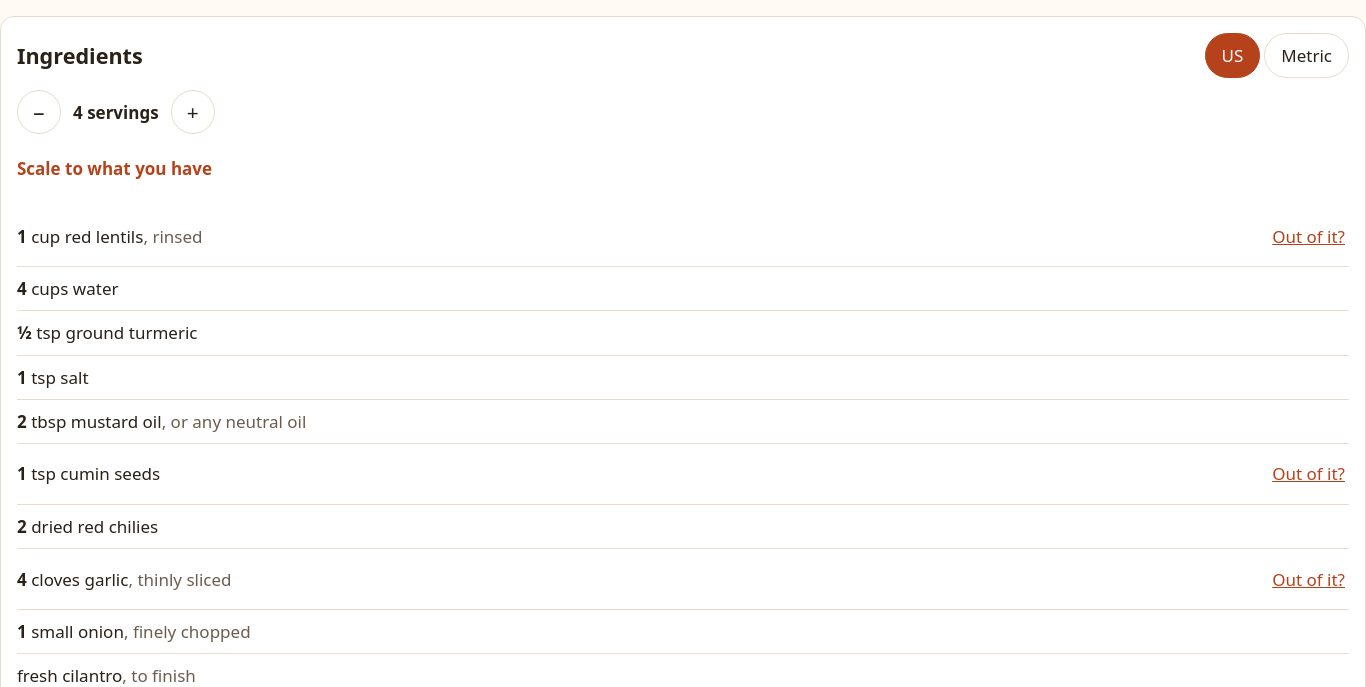
Test case: Scale to what you have › shows an approximate serving count when the amount does not divide evenly
Step 1. Click the heading "Scale to what you have" → (115, 168), box [17,157,212,180]
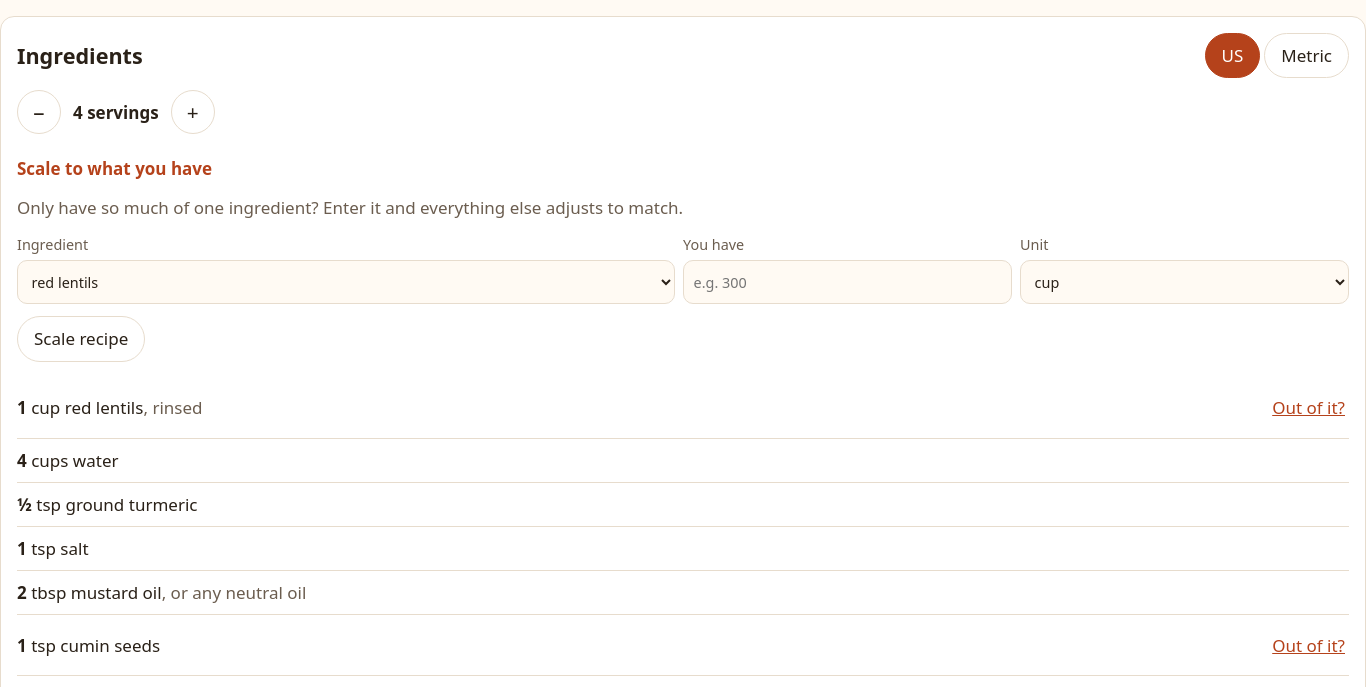
Step 2. Select "red lentils" in the dropdown labelled "Ingredient" → (346, 282), box [17,260,675,304]
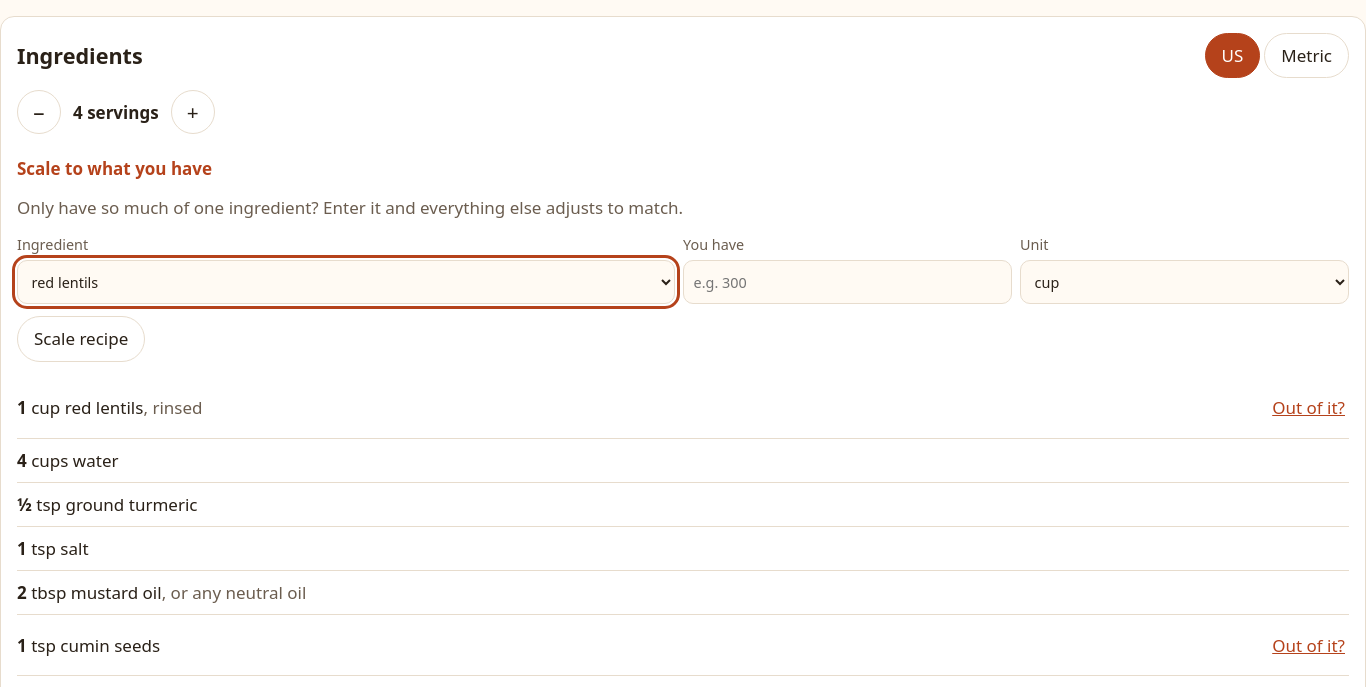
Step 3. Type "300" into the field labelled "You have" → (848, 282), box [683,260,1012,304]
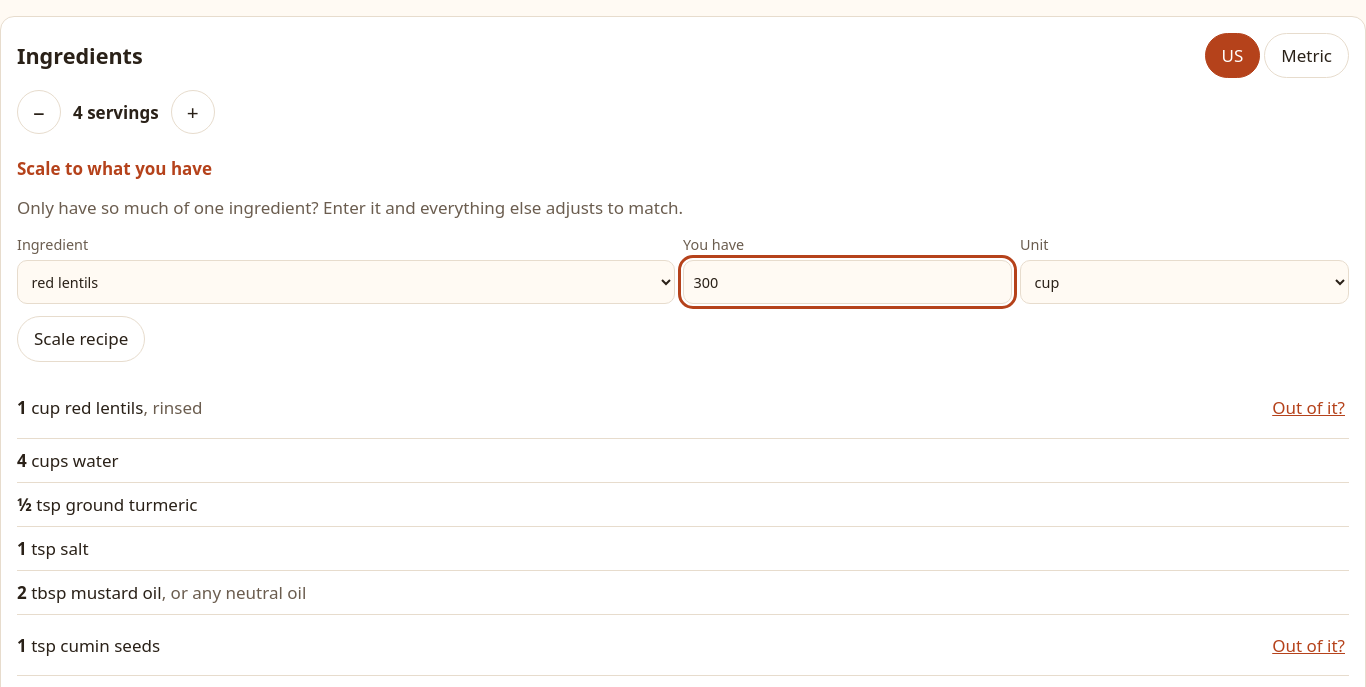
Step 4. Select "g" in the dropdown labelled "Unit" → (1184, 282), box [1020,260,1349,304]
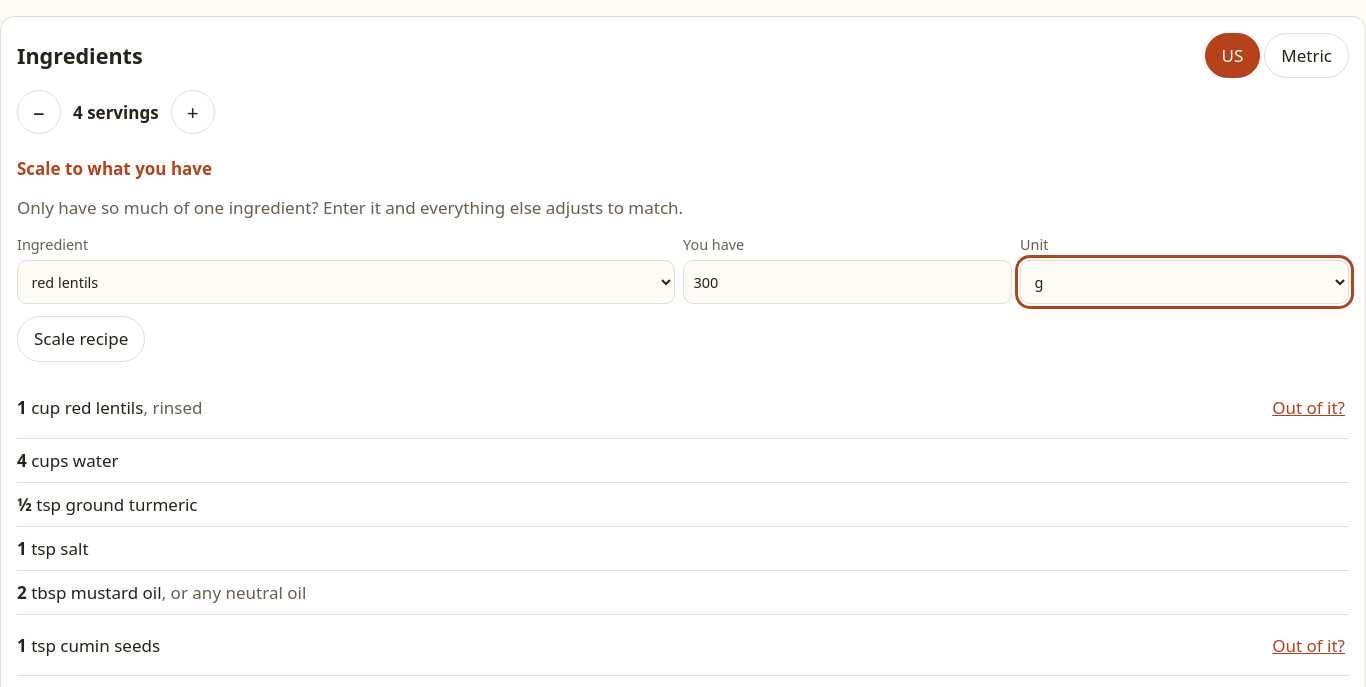
Step 5. Click the button "Scale recipe" → (81, 339), box [17,316,145,362]
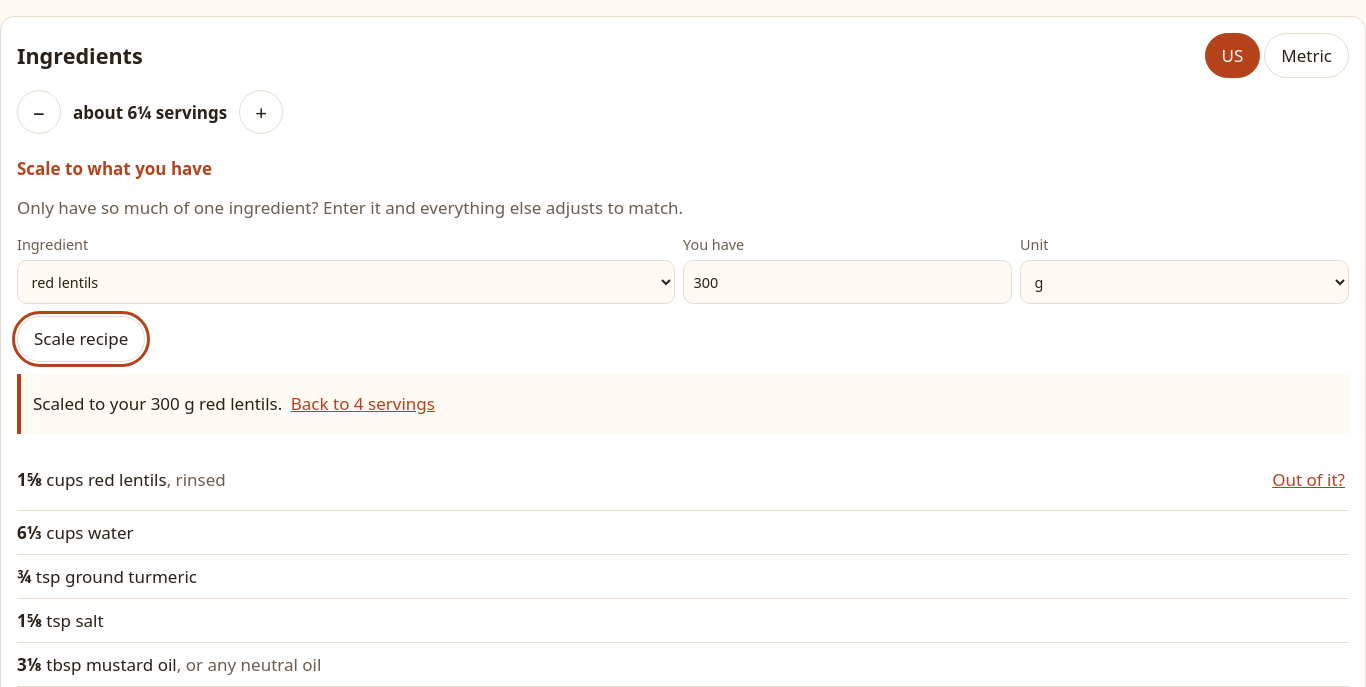
Expected: the text "about 6¼ servings" is shown, [73,99,227,126]
